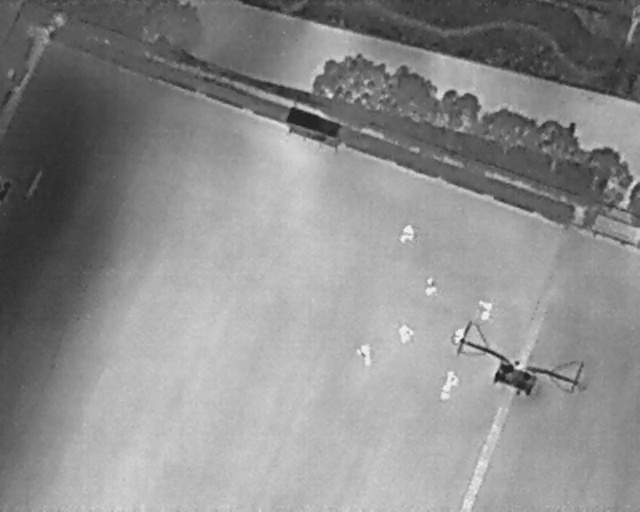Person: (437, 367, 463, 404), (474, 296, 495, 323), (355, 344, 373, 369), (449, 324, 467, 347), (397, 323, 415, 344), (400, 223, 415, 243), (424, 276, 436, 296)
